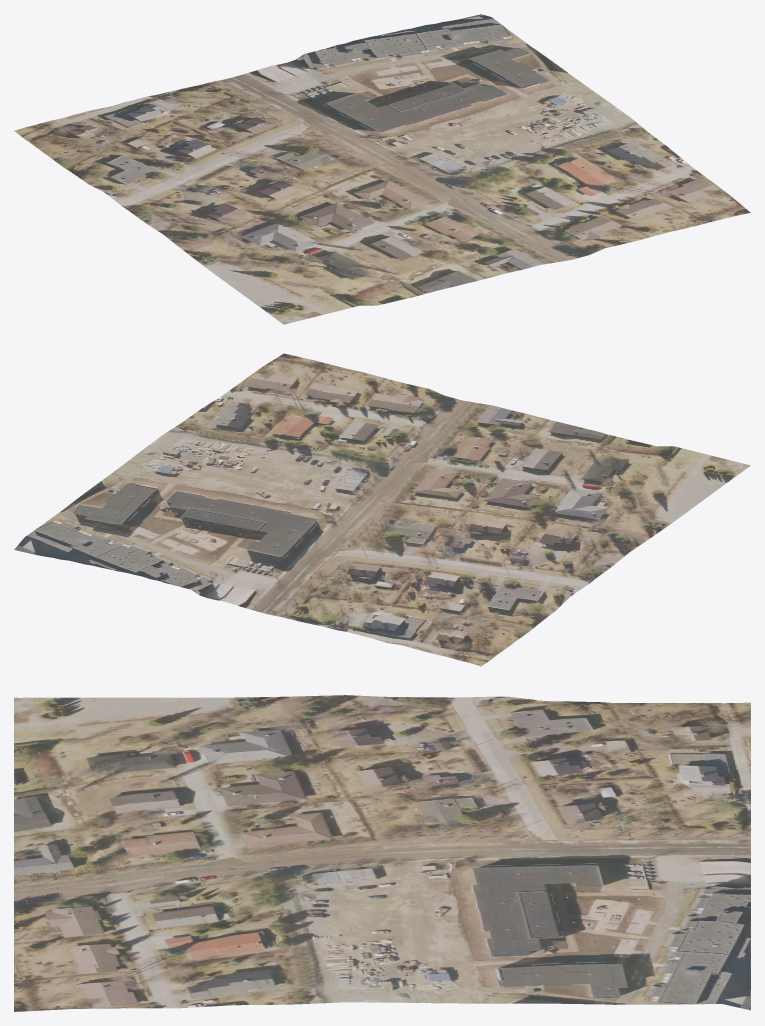
Rendered from CM_Terrain_24491278_6820204.fbx.
3 renders of one model, top to bottom at view 1: azimuth 30°, elevation 25°; view 2: azimuth 150°, elevation 25°; view 3: azimuth 270°, elevation 25°, orthographic. The views are drawn at different scales.
Parts seen in each view (by area): view 1: CM_Terrain_24491278_6820204_LOD0; view 2: CM_Terrain_24491278_6820204_LOD0; view 3: CM_Terrain_24491278_6820204_LOD0.
Boxes of the visible parts, x1,y1,x2,y2 form: CM_Terrain_24491278_6820204_LOD0: (14, 14, 750, 324); CM_Terrain_24491278_6820204_LOD0: (14, 353, 750, 666); CM_Terrain_24491278_6820204_LOD0: (14, 695, 750, 1011).
Size of what is drawn, in the model's own units: 205 by 5.2 by 205.
